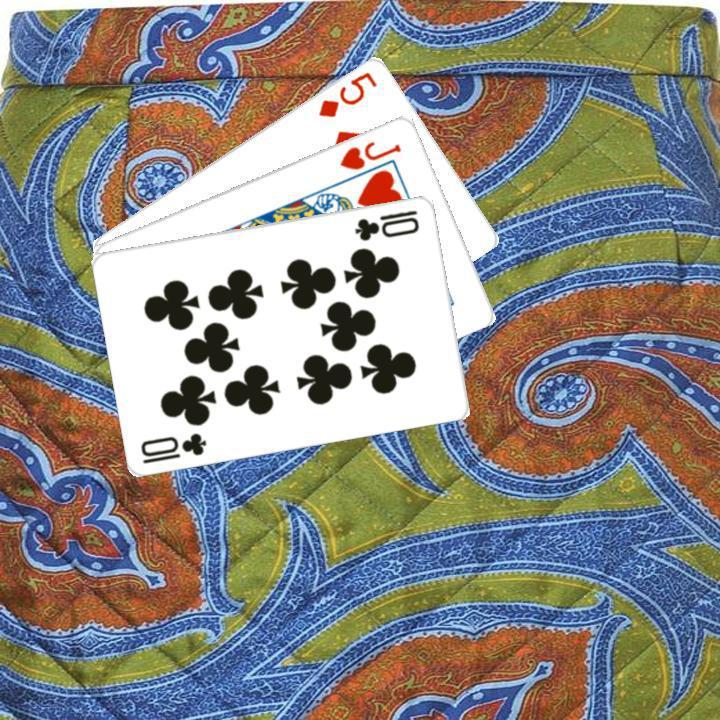10: (136, 428, 209, 465), (350, 205, 422, 242)
5: (314, 66, 380, 119)
J: (335, 136, 404, 172)
